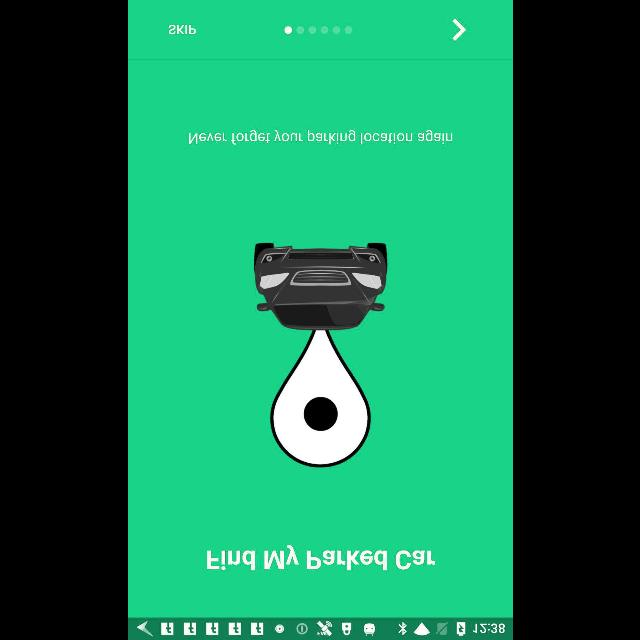icon: (452, 18, 466, 42)
image: (253, 242, 387, 468)
pageindicator: (284, 26, 352, 34)
text: (207, 545, 436, 571), (188, 128, 452, 146), (168, 24, 196, 34)
uppertaskbar: (128, 617, 512, 639)
